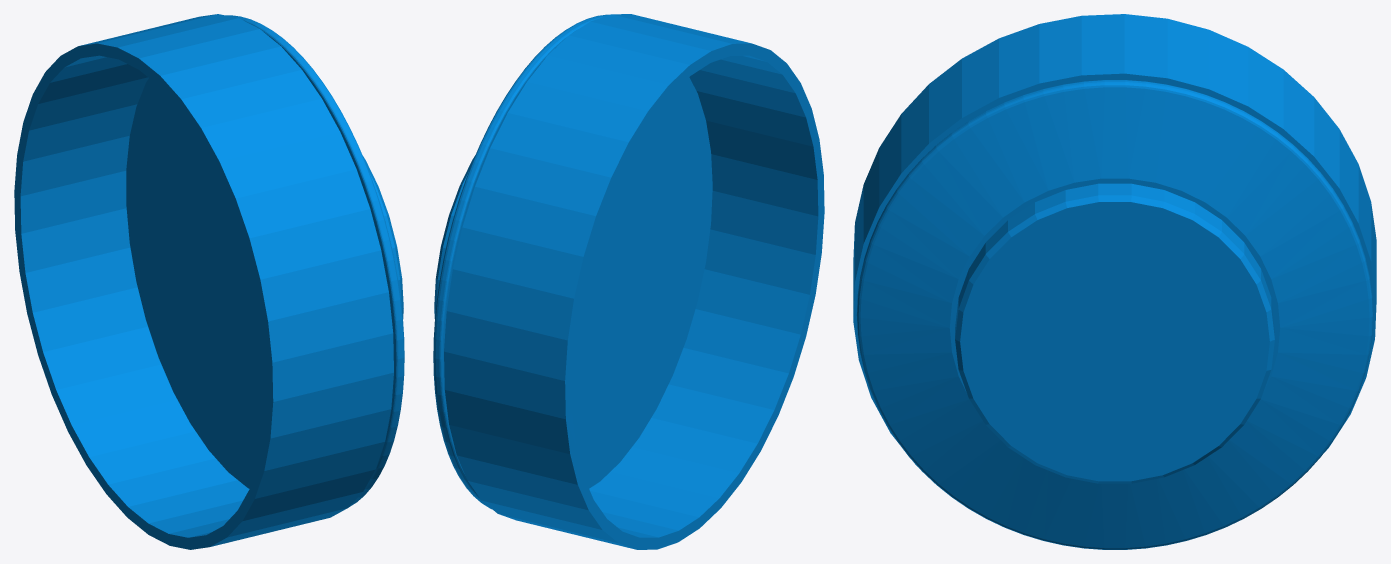
The picture shows the model from 3 angles, left to right: view 1: azimuth 30°, elevation 25°; view 2: azimuth 150°, elevation 25°; view 3: azimuth 270°, elevation 25°; orthographic projection.
Visible parts, largest first — view 1: 12; view 2: 12; view 3: 12.
Boxes of the visible parts, x1,y1,x2,y2 form: 12: (14,14,404,549); 12: (433,14,824,549); 12: (853,14,1376,549).
Bounding box in the file's own units: 0.0425 × 0.1039 × 0.1039.
